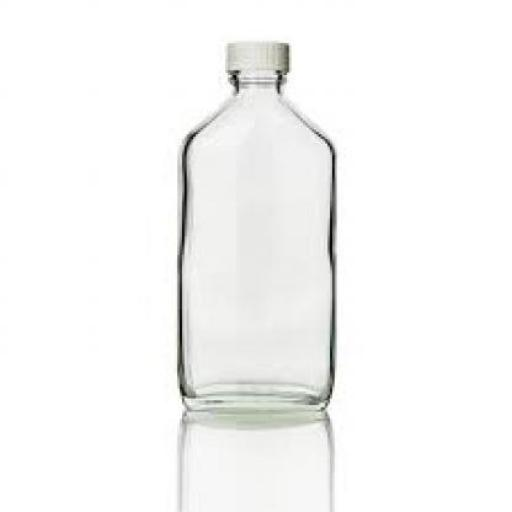glass: (180, 68, 330, 410)
plastic: (223, 39, 287, 71)
